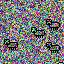sheep: (3, 38, 19, 50), (46, 41, 60, 54), (31, 26, 45, 38), (46, 19, 60, 31)
